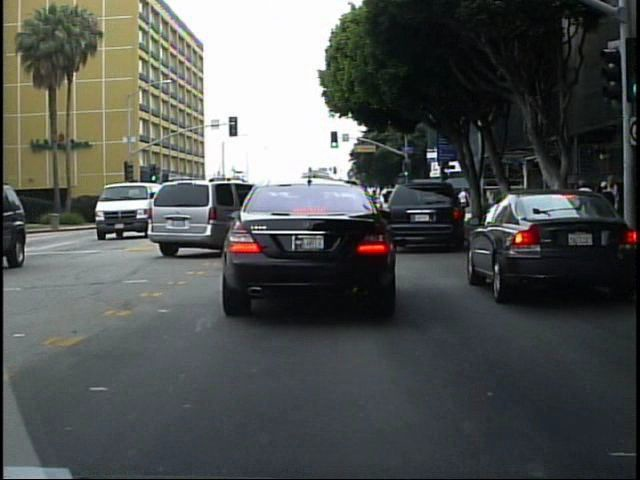person: (602, 171, 620, 236), (458, 184, 471, 221)
